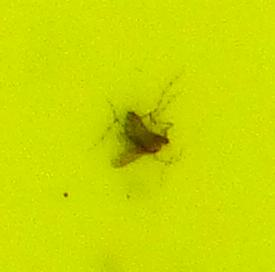Nematocera: (100, 100, 175, 172)
